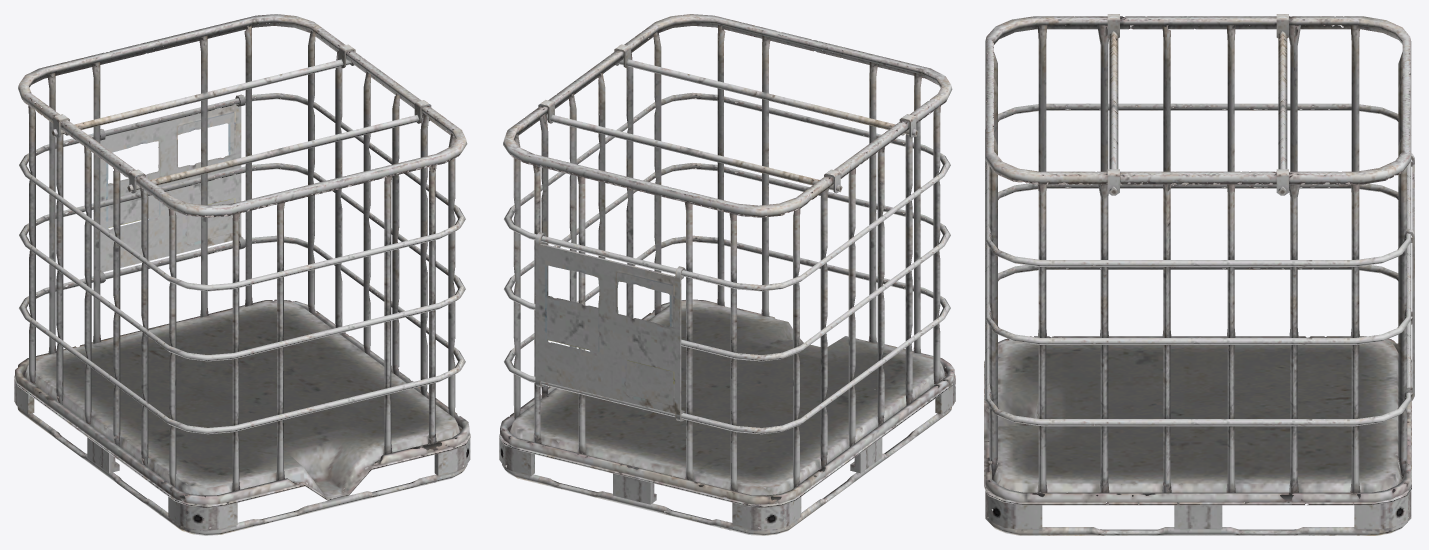
File: sm23_001_watertank01a.fbx
3 renders of one model, left to right at view 1: azimuth 30°, elevation 25°; view 2: azimuth 150°, elevation 25°; view 3: azimuth 270°, elevation 25°, orthographic. The views are drawn at different scales.
Parts seen in each view (by area): view 1: LOD_1_Group_0_Sub_1__sm23_001_WaterTank01A_B_Mat; view 2: LOD_1_Group_0_Sub_1__sm23_001_WaterTank01A_B_Mat; view 3: LOD_1_Group_0_Sub_1__sm23_001_WaterTank01A_B_Mat.
Part boxes in pixels (<box>): LOD_1_Group_0_Sub_1__sm23_001_WaterTank01A_B_Mat: <box>14,14,470,535</box>; LOD_1_Group_0_Sub_1__sm23_001_WaterTank01A_B_Mat: <box>499,14,955,535</box>; LOD_1_Group_0_Sub_1__sm23_001_WaterTank01A_B_Mat: <box>984,14,1414,535</box>.
Size of the model in its own units: 0.8759 by 0.9086 by 0.9694.
